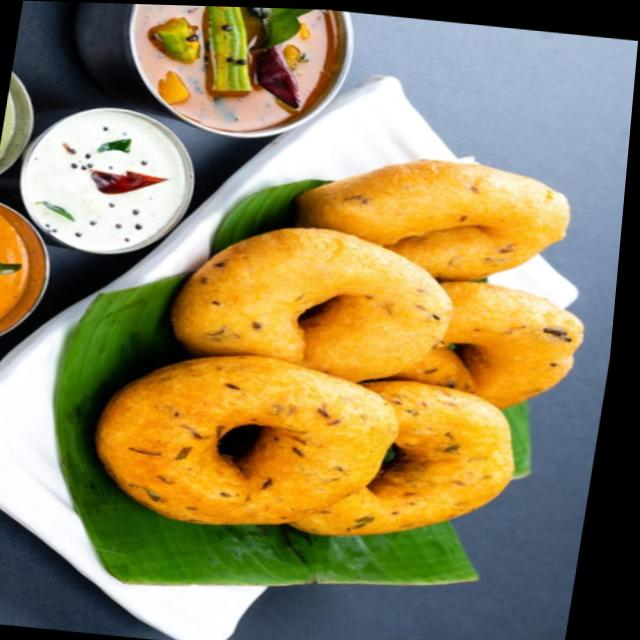RED CHUTNEY: (0, 208, 32, 319)
SAMBAR: (129, 4, 344, 132)
VADA: (95, 161, 588, 538)
WHITE CHUTNEY: (16, 107, 185, 250)
